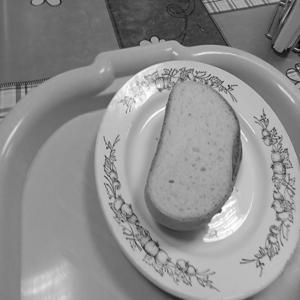bread: (143, 62, 240, 252)
